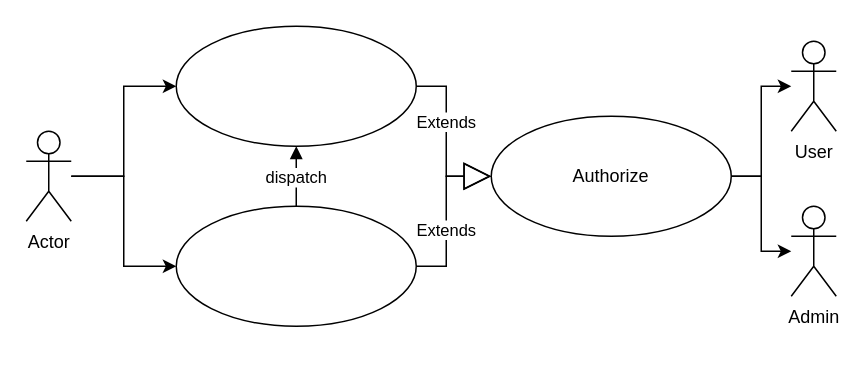
Some shapes in this 866 by 377 pixel diagram are drawn without their labels. The centre of each missing label's shape, as x and y in pixels:
"Login" goes at point 295,265.
"Register" goes at point 295,85.
